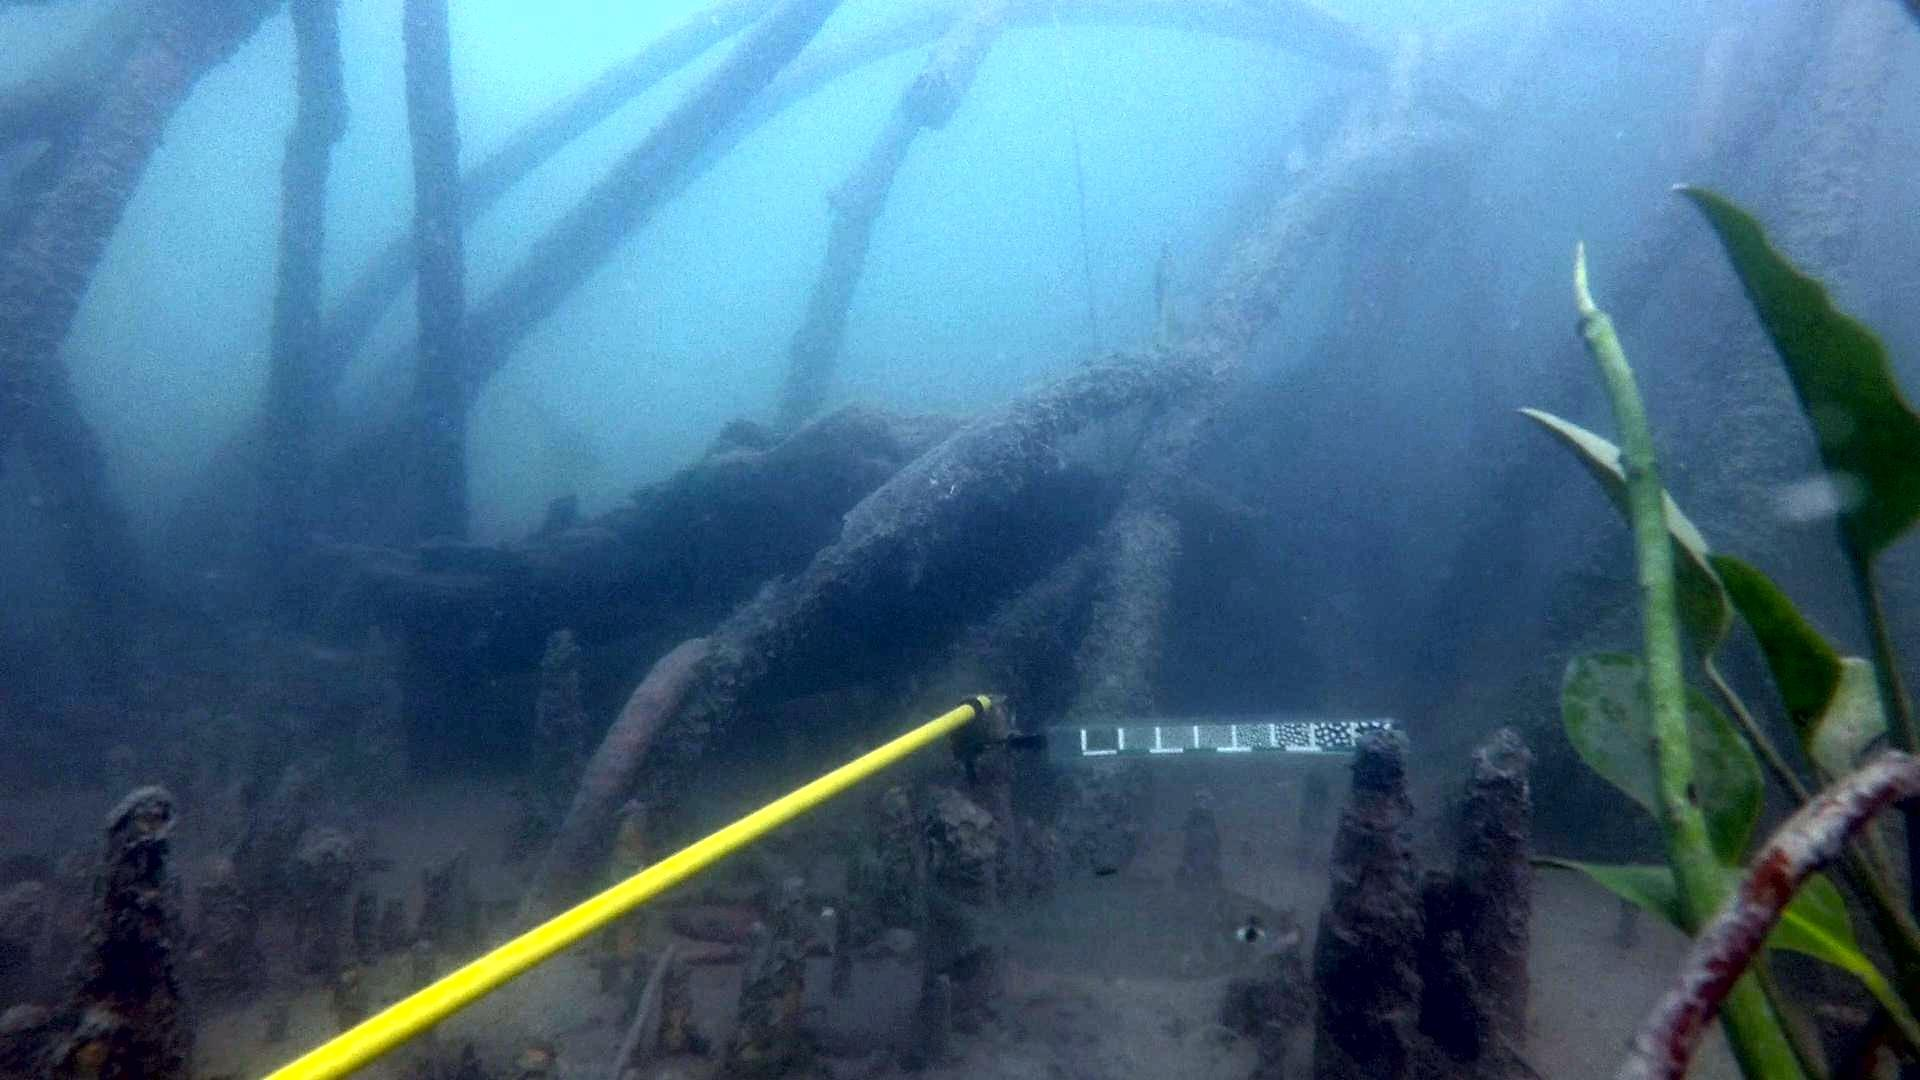gerres: (918, 840, 1304, 986)
